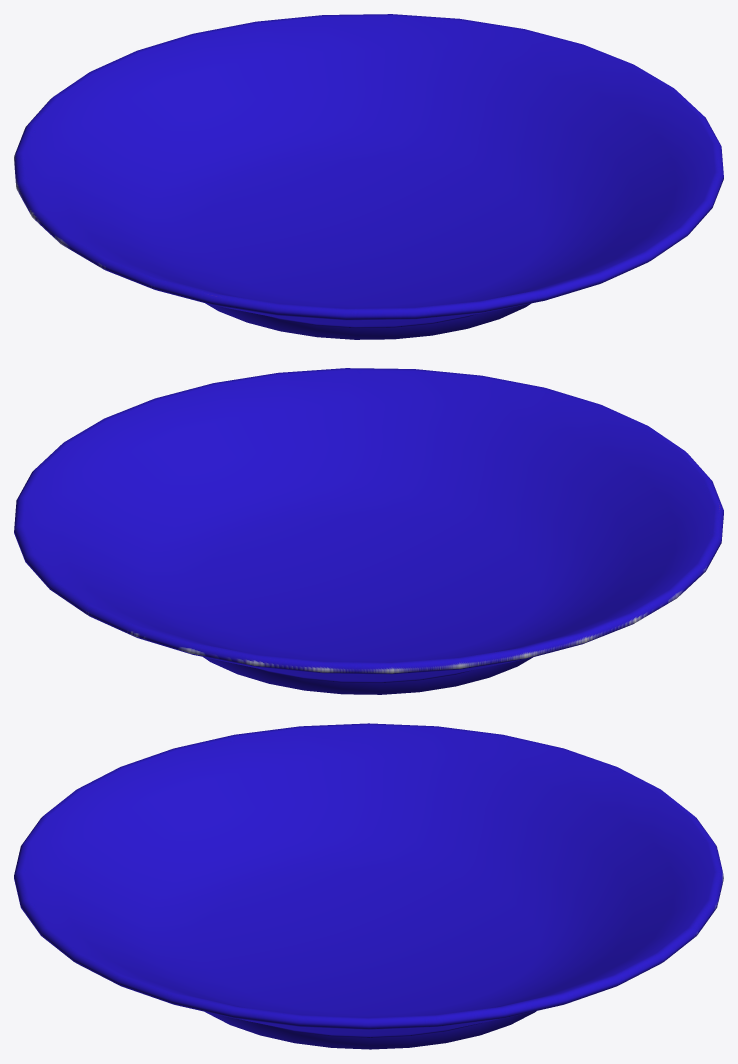
The model's file is piatto_blu.glb.
3 views of the same model, one above another, from view 1: azimuth 30°, elevation 25°; view 2: azimuth 150°, elevation 25°; view 3: azimuth 270°, elevation 25° (orthographic).
Visible parts, largest first — view 1: Mesh_0; view 2: Mesh_0; view 3: Mesh_0.
Boxes of the visible parts, x1,y1,x2,y2 form: Mesh_0: (14,14,723,339); Mesh_0: (14,368,723,694); Mesh_0: (14,723,723,1049).
Size of the model in its own units: 0.3705 by 0.0543 by 0.3705.
Materials: 1 (1 with a texture image).
